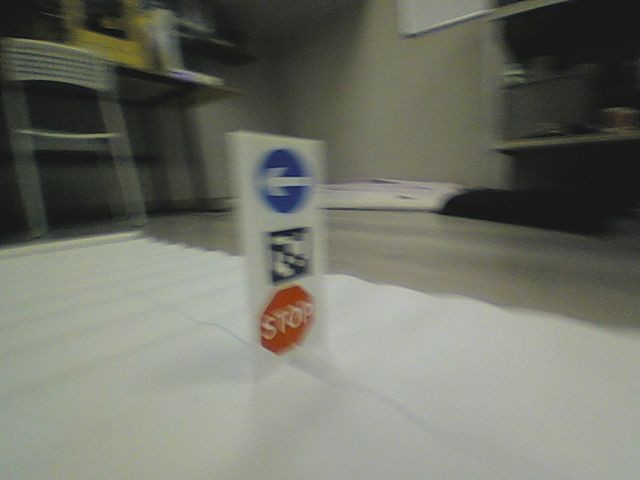Stop: (260, 287, 316, 355)
